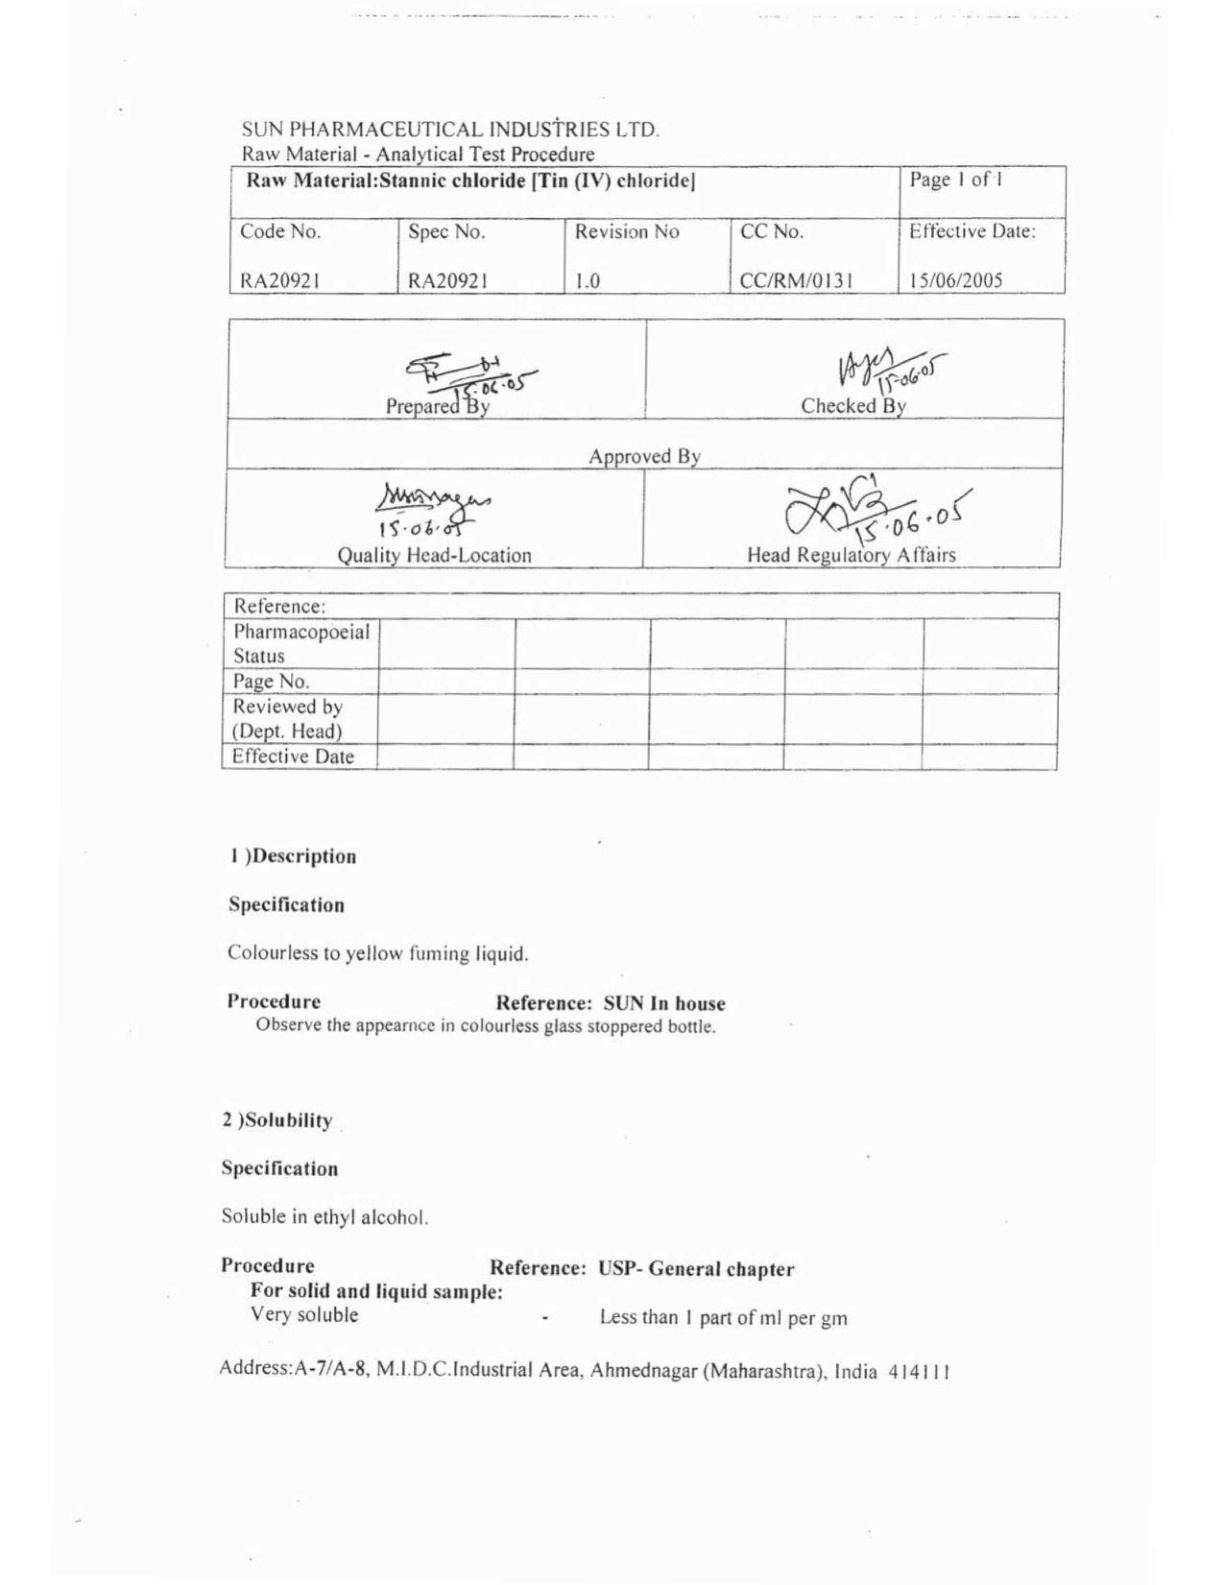merged_cells: (222, 318, 1067, 569), (220, 590, 1061, 774), (226, 165, 1068, 296)
